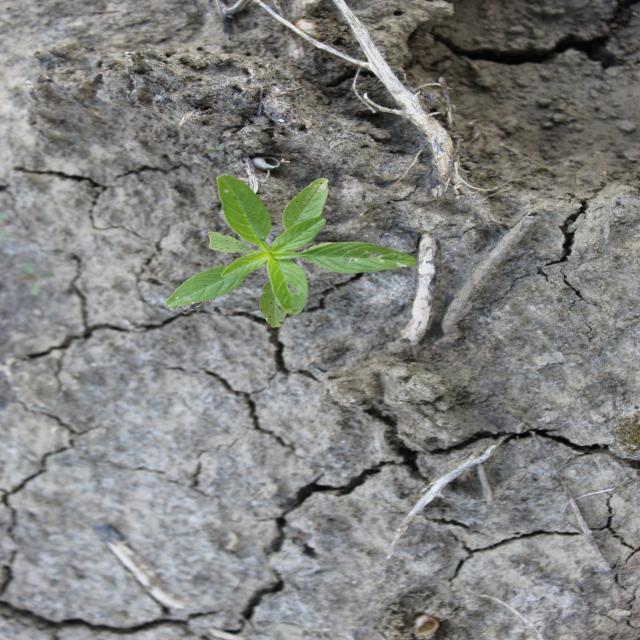Waterhemp: (163, 173, 420, 329)
